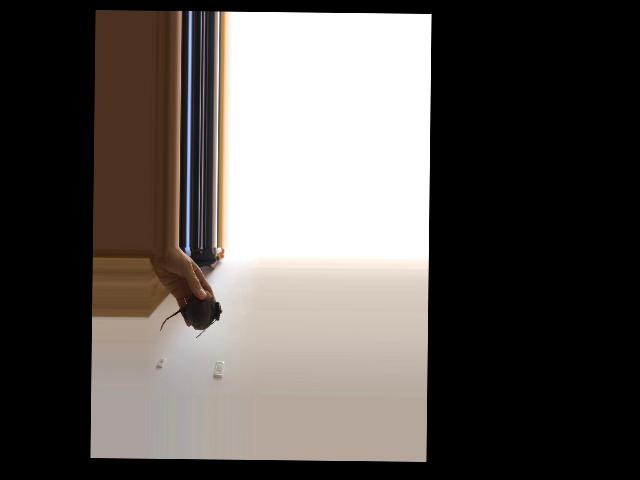beet: (160, 289, 222, 338)
